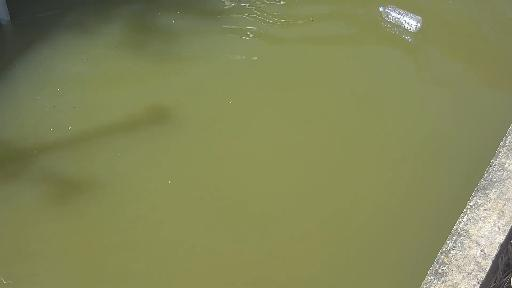plastic: (366, 2, 440, 49)
